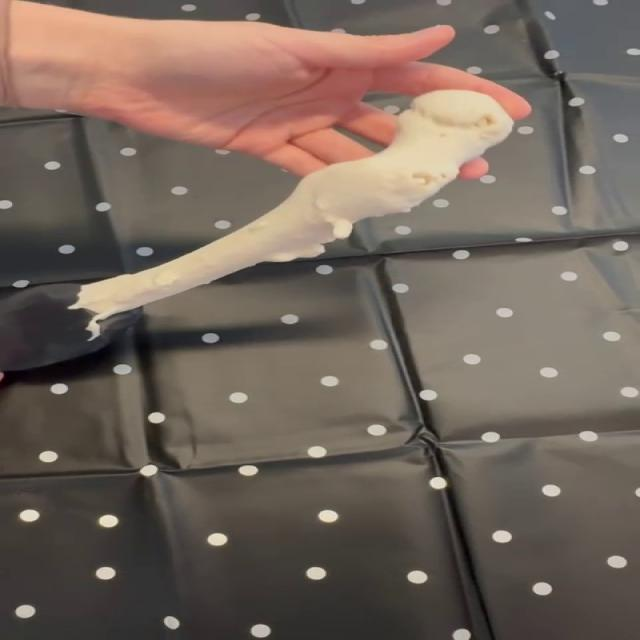bones: (0, 90, 513, 372)
